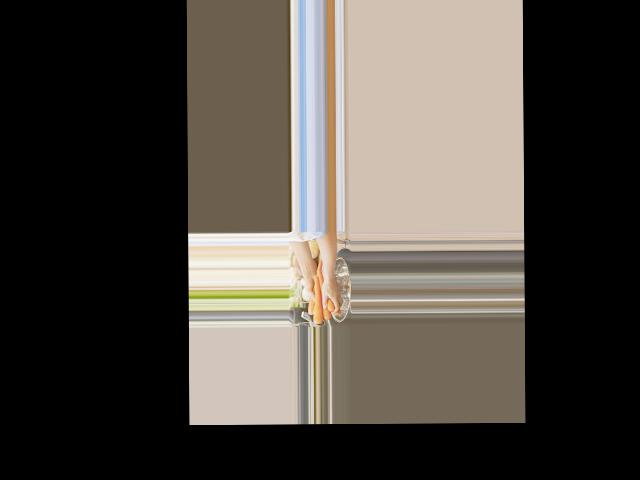carrot: (314, 266, 329, 320)
